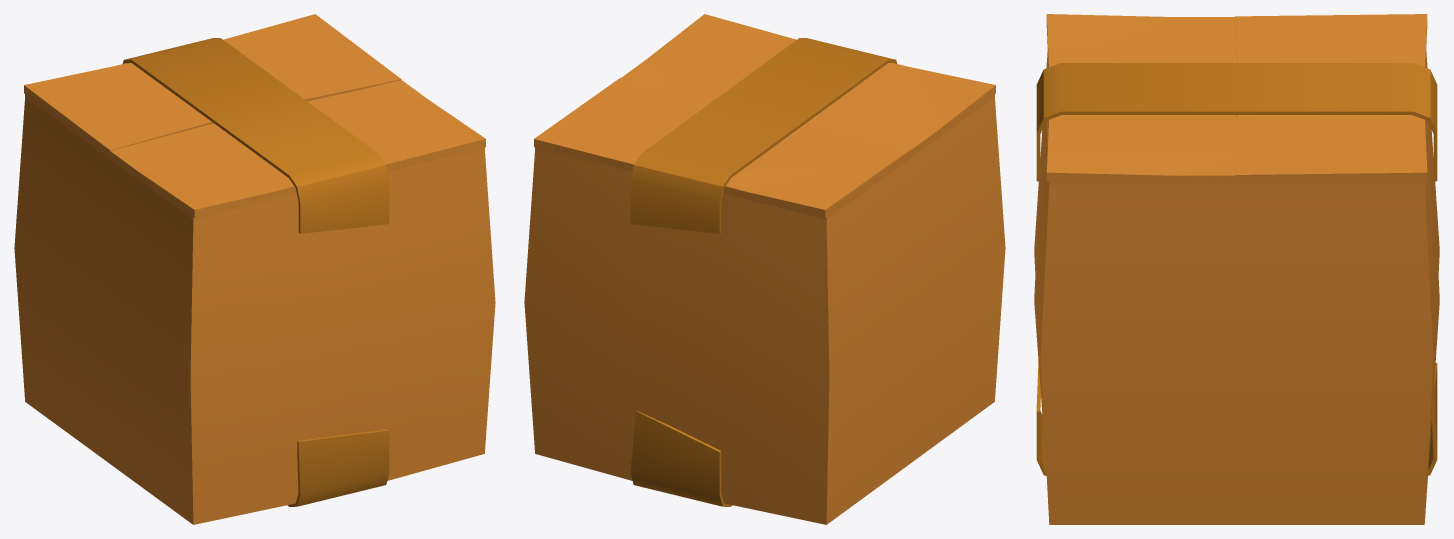
The picture shows the model from 3 angles, left to right: view 1: azimuth 30°, elevation 25°; view 2: azimuth 150°, elevation 25°; view 3: azimuth 270°, elevation 25°; orthographic projection. The views are drawn at different scales.
Visible parts, largest first — view 1: Box_02; view 2: Box_02; view 3: Box_02.
Boxes of the visible parts, x1,y1,x2,y2 form: Box_02: (14,14,495,524); Box_02: (524,14,1005,524); Box_02: (1034,14,1439,524).
Bounding box in the file's own units: 99.9 × 104 × 103.
